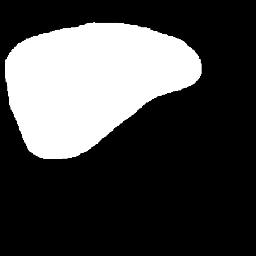mass: (6, 23, 204, 173)
